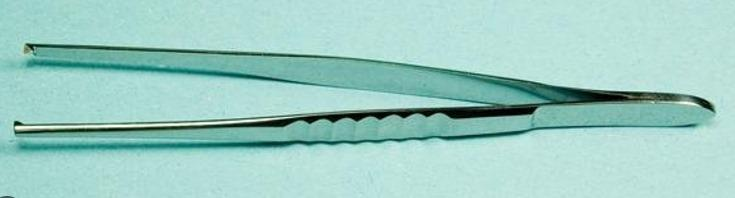Dissecting Forceps Tooth: (11, 37, 719, 143)
